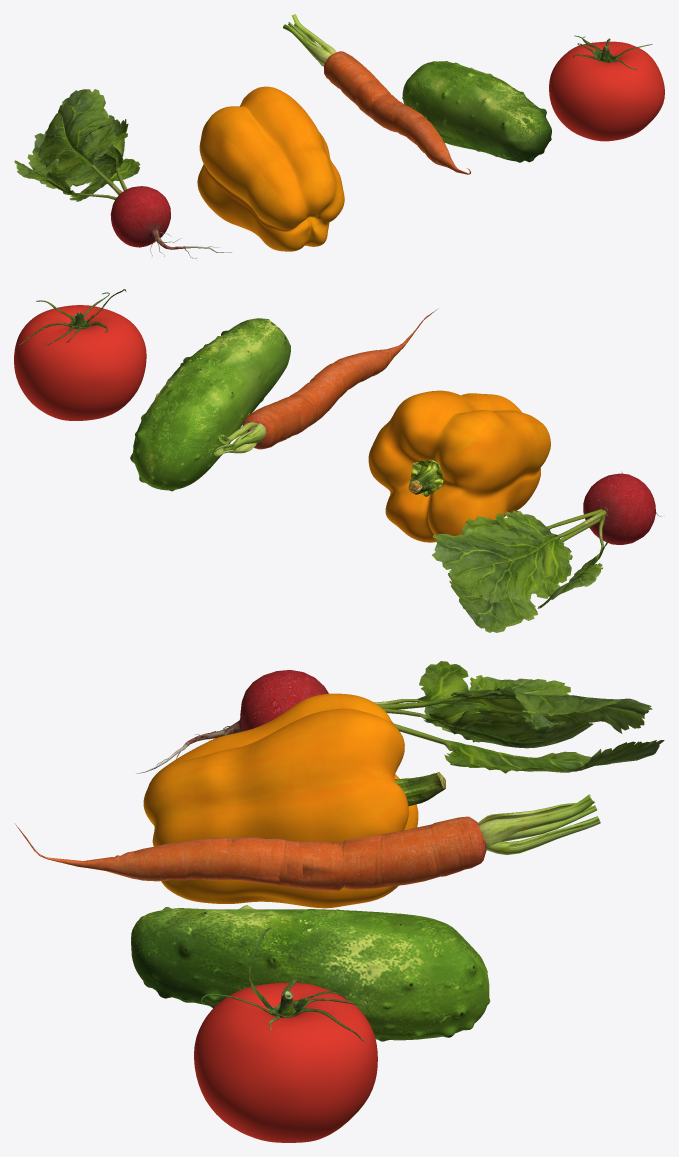
Rendered from Ovosh.FBX.
The picture shows the model from 3 angles, top to bottom: view 1: azimuth 30°, elevation 25°; view 2: azimuth 150°, elevation 25°; view 3: azimuth 270°, elevation 25°; orthographic projection. The views are drawn at different scales.
Parts seen in each view (by area): view 1: Perec, Redis, Oguruchik, Tomato, Morkov; view 2: Perec, Redis, Oguruchik, Tomato, Morkov; view 3: Perec, Oguruchik, Tomato, Morkov, Redis.
Boxes of the visible parts, x1,y1,x2,y2 form: Perec: (197,86,344,251); Redis: (14,89,231,260); Oguruchik: (402,61,551,162); Tomato: (549,35,664,141); Morkov: (283,14,470,174); Perec: (368,390,550,542); Redis: (432,471,664,632); Oguruchik: (130,318,290,491); Tomato: (14,289,146,420); Morkov: (214,308,438,456); Perec: (143,693,445,908); Oguruchik: (131,905,490,1041); Tomato: (194,927,377,1142); Morkov: (15,794,600,890); Redis: (136,661,664,773).
Bounding box in the file's own units: 39.76 × 8.42 × 24.8.
Materials: 7 (7 with a texture image).
